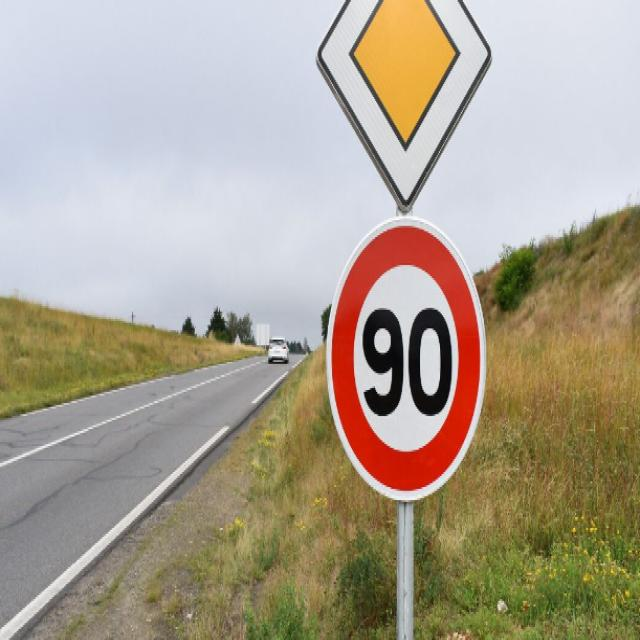speed_90: (324, 211, 487, 502)
